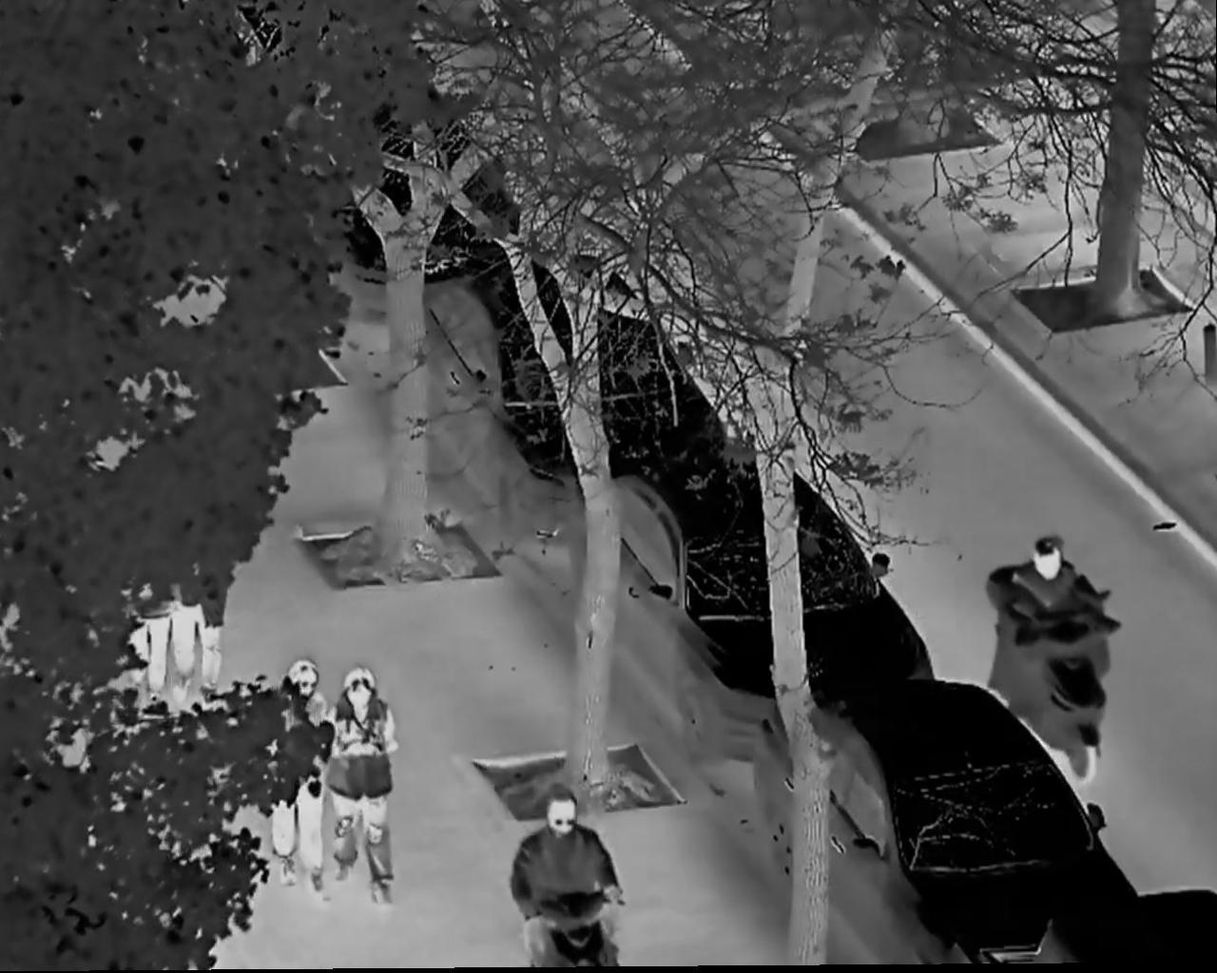person: (506, 788, 623, 973), (322, 664, 402, 905), (1006, 531, 1100, 727), (261, 658, 330, 899), (171, 517, 232, 710), (117, 516, 170, 705)
